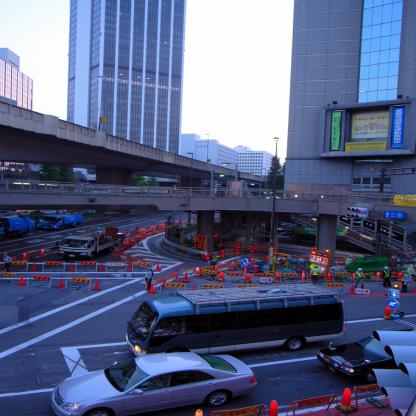Bus: (126, 283, 348, 355)
